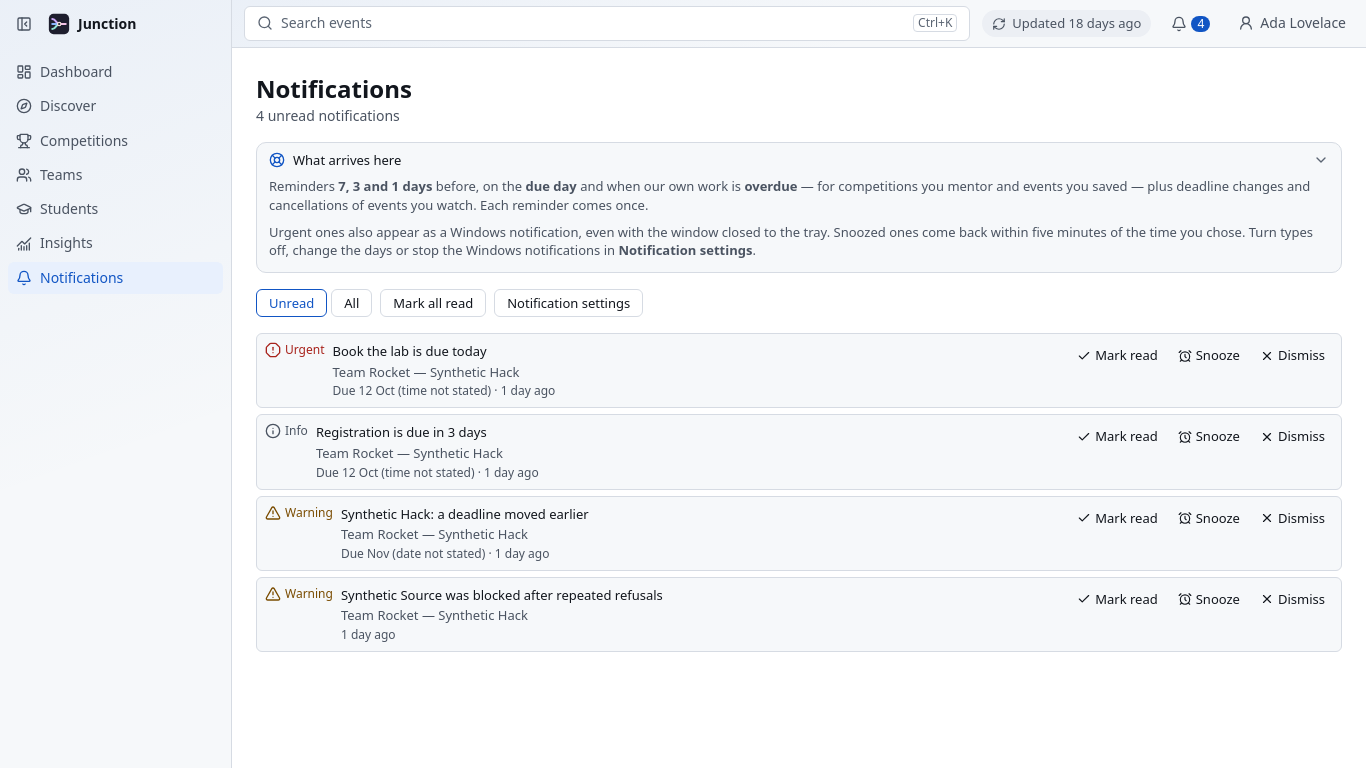
Test: no enum value, ISO string or 00:00 on screen › in the Inbox, its preferences and the open bell
The image size is (1366, 768).
Expected: the navigation bar named "Main" is shown, [0,0,231,302]
Expected: the list named "Notifications" is shown, [256,333,1342,652]
Click the button "Notification settings". click: click(569, 303)
box: [494,289,643,317]
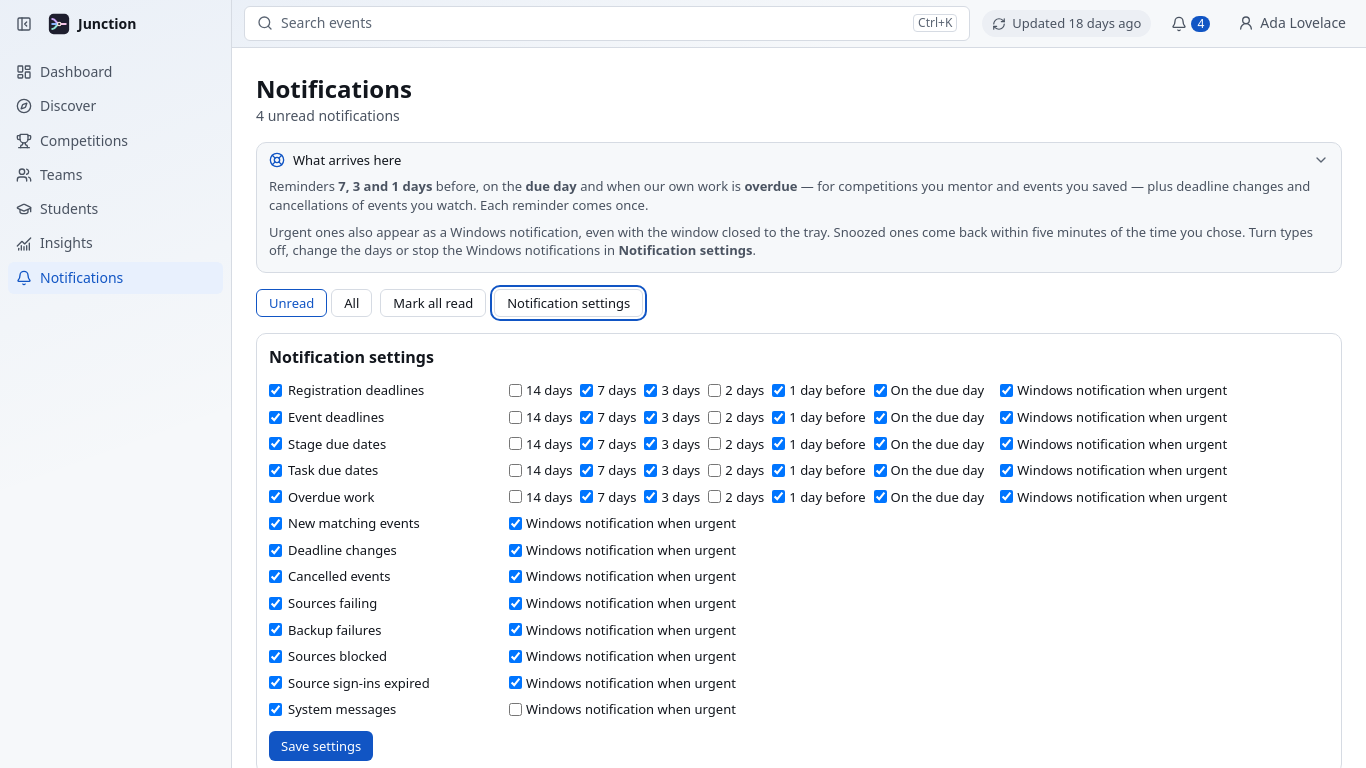
Result: the form "Notification settings" is shown at [256,333,1342,767]
Click the button with test id "notification-bell". click: click(1191, 24)
box: [1164,8,1218,40]
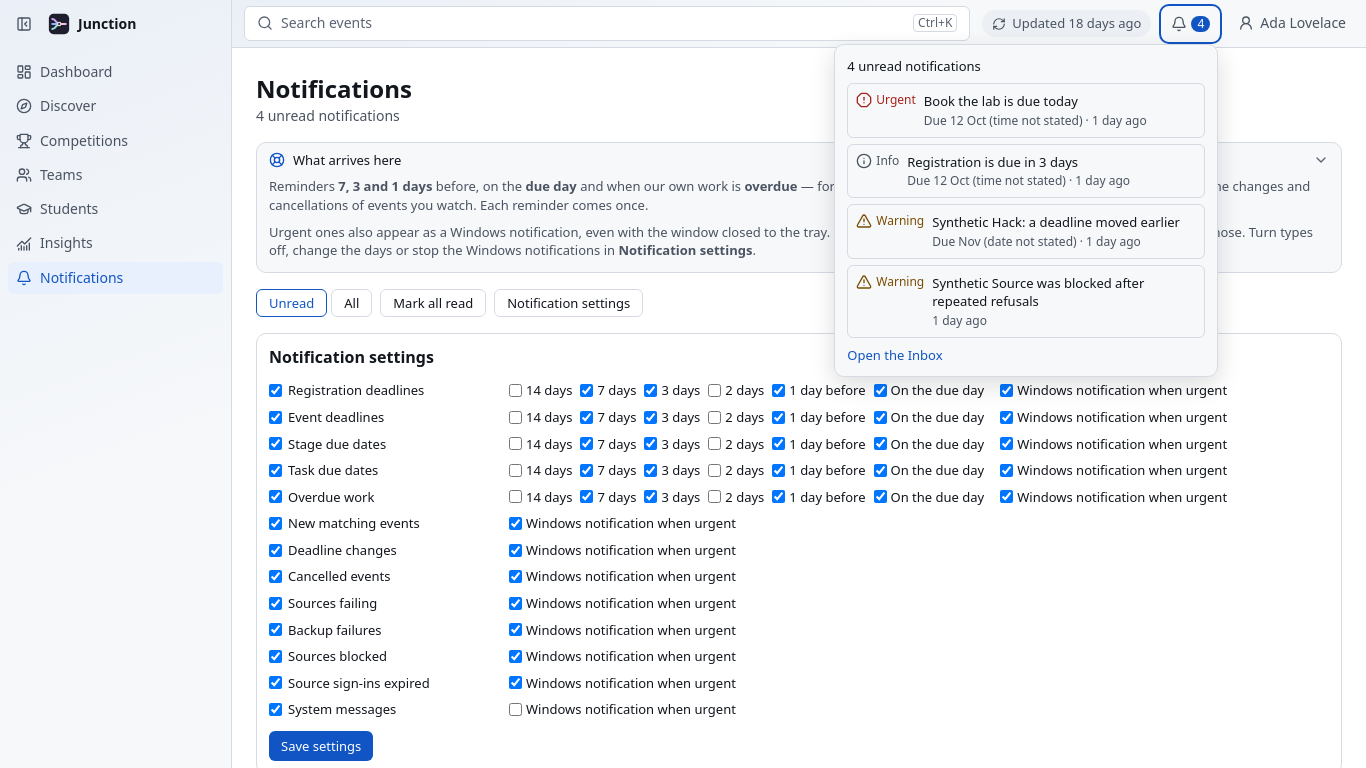
Result: the dialog named "Latest notifications" is shown at [834,44,1218,377]
